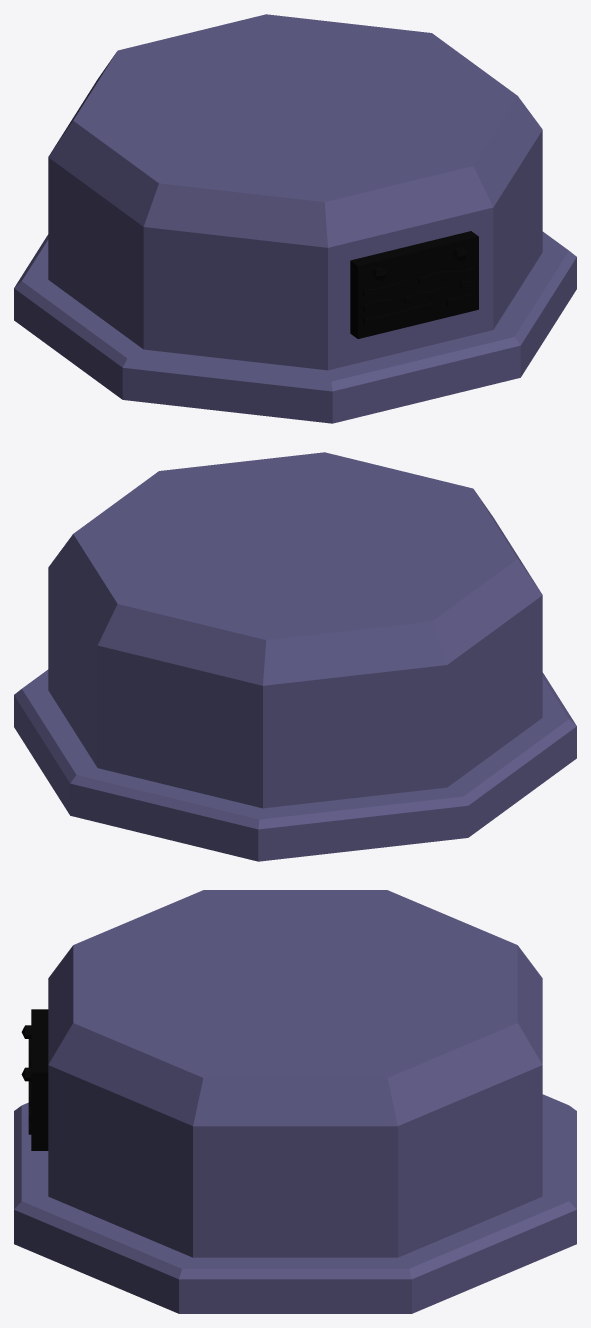
File: Statue_Stander.fbx
3 renders of one model, top to bottom at view 1: azimuth 30°, elevation 25°; view 2: azimuth 150°, elevation 25°; view 3: azimuth 270°, elevation 25°, orthographic. The views are drawn at different scales.
Parts seen in each view (by area): view 1: Statue_Stander; view 2: Statue_Stander; view 3: Statue_Stander.
Boxes of the visible parts, x1,y1,x2,y2 form: Statue_Stander: (14,14,576,423); Statue_Stander: (14,452,576,861); Statue_Stander: (14,890,576,1313).
Size of the model in its own units: 129 by 53.31 by 129.
